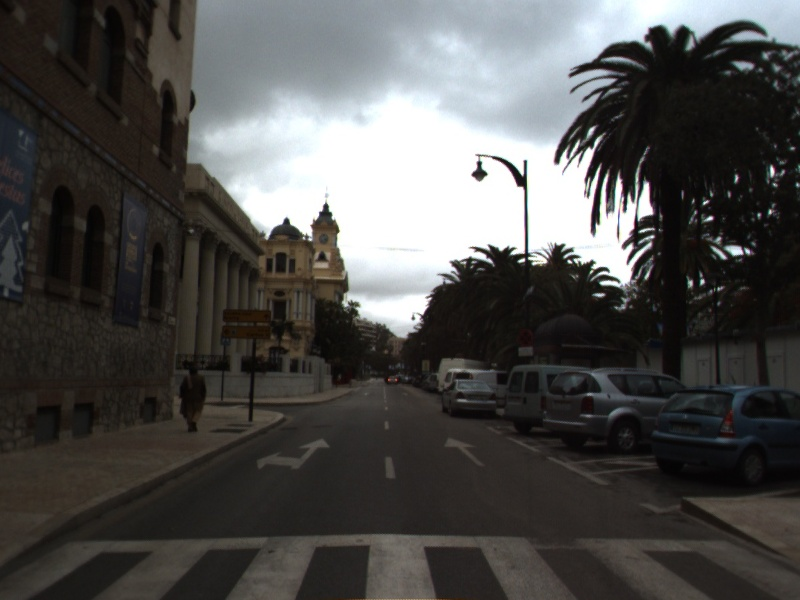STRAIGHT: (442, 435, 488, 468)
STRAIGHT_LEFT: (254, 436, 333, 472)
